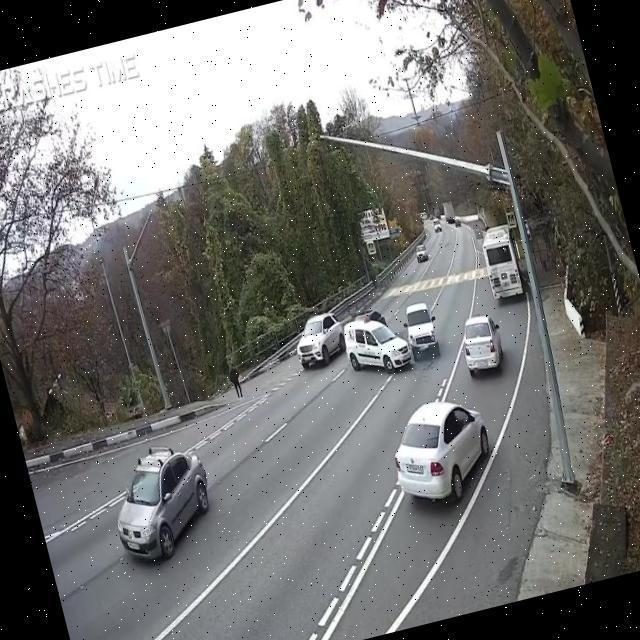accident: (332, 286, 449, 390)
